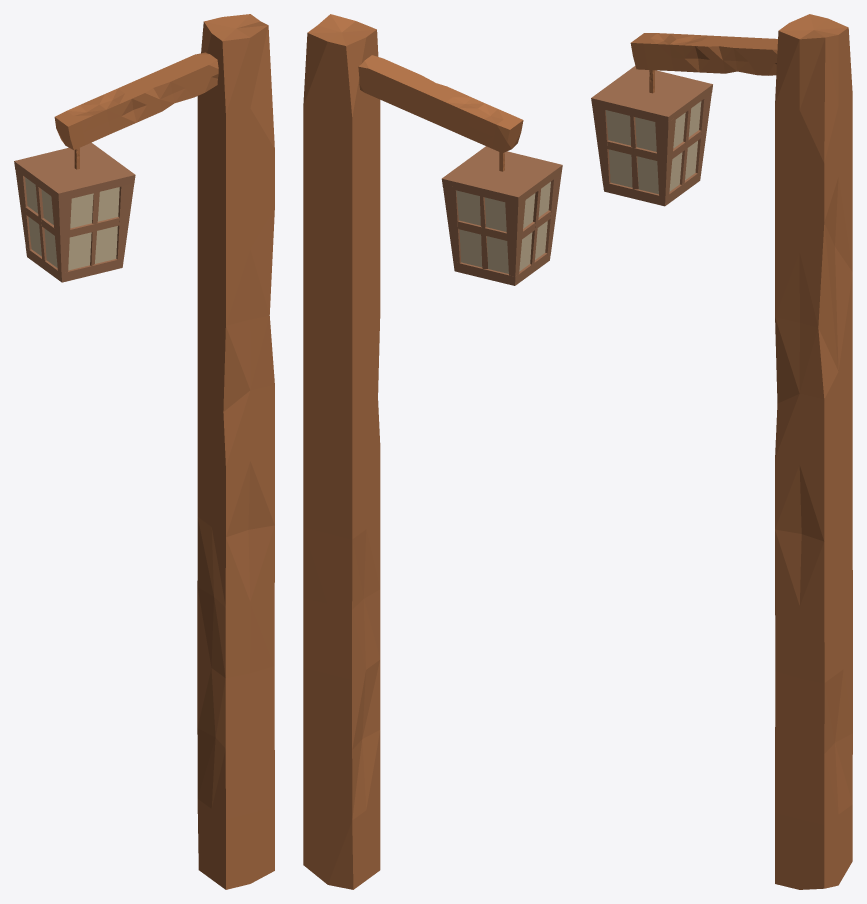
The model's file is Light2.fbx.
The picture shows the model from 3 angles, left to right: view 1: azimuth 30°, elevation 25°; view 2: azimuth 150°, elevation 25°; view 3: azimuth 330°, elevation 25°; orthographic projection.
Visible parts, largest first — view 1: Cube.011; view 2: Cube.011; view 3: Cube.011.
Boxes of the visible parts, <box> form: Cube.011: <box>14,14,274,889</box>; Cube.011: <box>303,14,562,889</box>; Cube.011: <box>591,14,852,889</box>.
Size of the model in its own units: 158 by 573 by 54.34.
